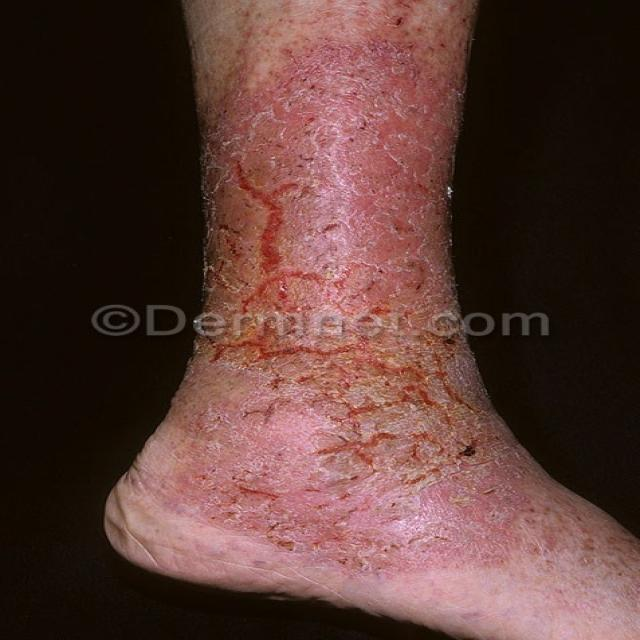Eczema: (205, 14, 508, 562)
